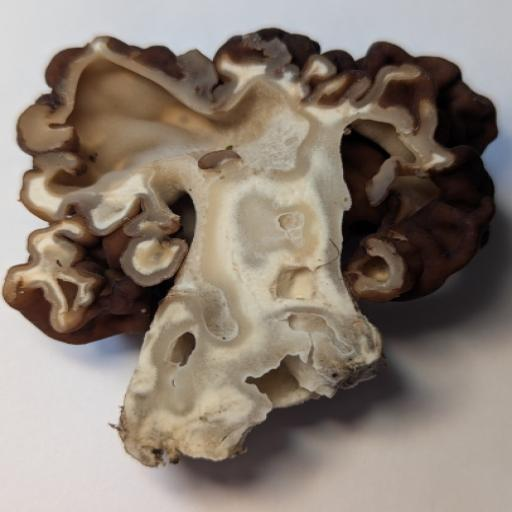False Morel: (0, 1, 512, 470)
